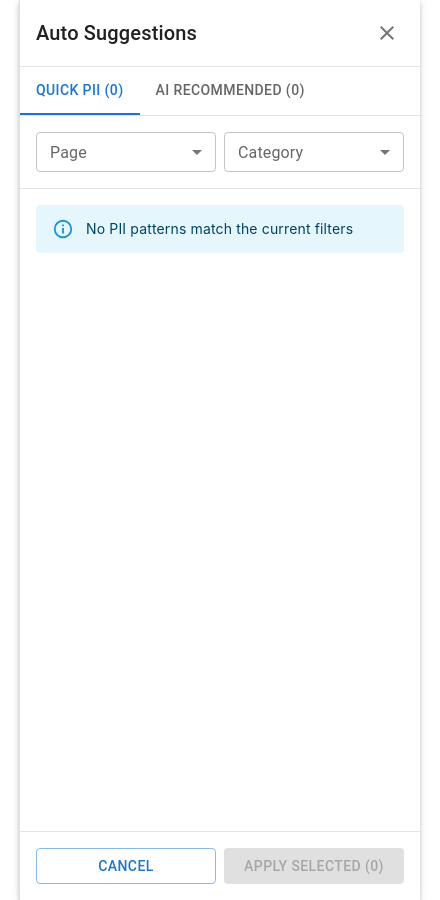
Test: AutoSuggestDrawer › handles AI suggestions fetch failure with detail and shows Regenerate button
Click the tab "AI Recommended (0)": click(230, 91) [140,67,321,115]
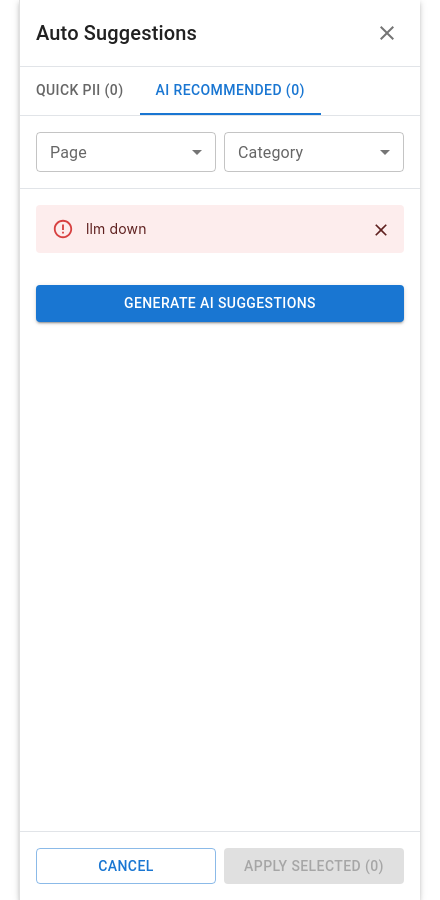
Expected: the text "llm down" is shown, [86,220,147,237]
Expected: the button "Generate AI Suggestions" is shown, [36,285,404,322]
